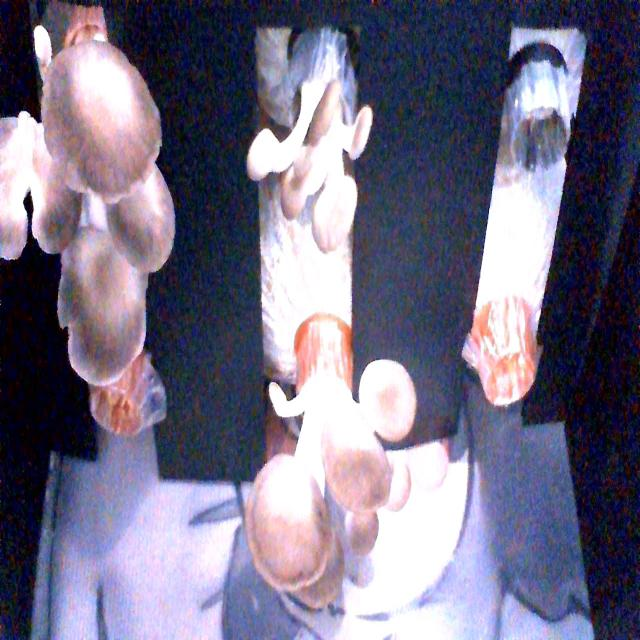big: (0, 20, 182, 383), (239, 343, 419, 619)
nfound: (76, 368, 172, 444), (476, 314, 546, 414), (512, 91, 576, 190)
small: (242, 62, 380, 255)
